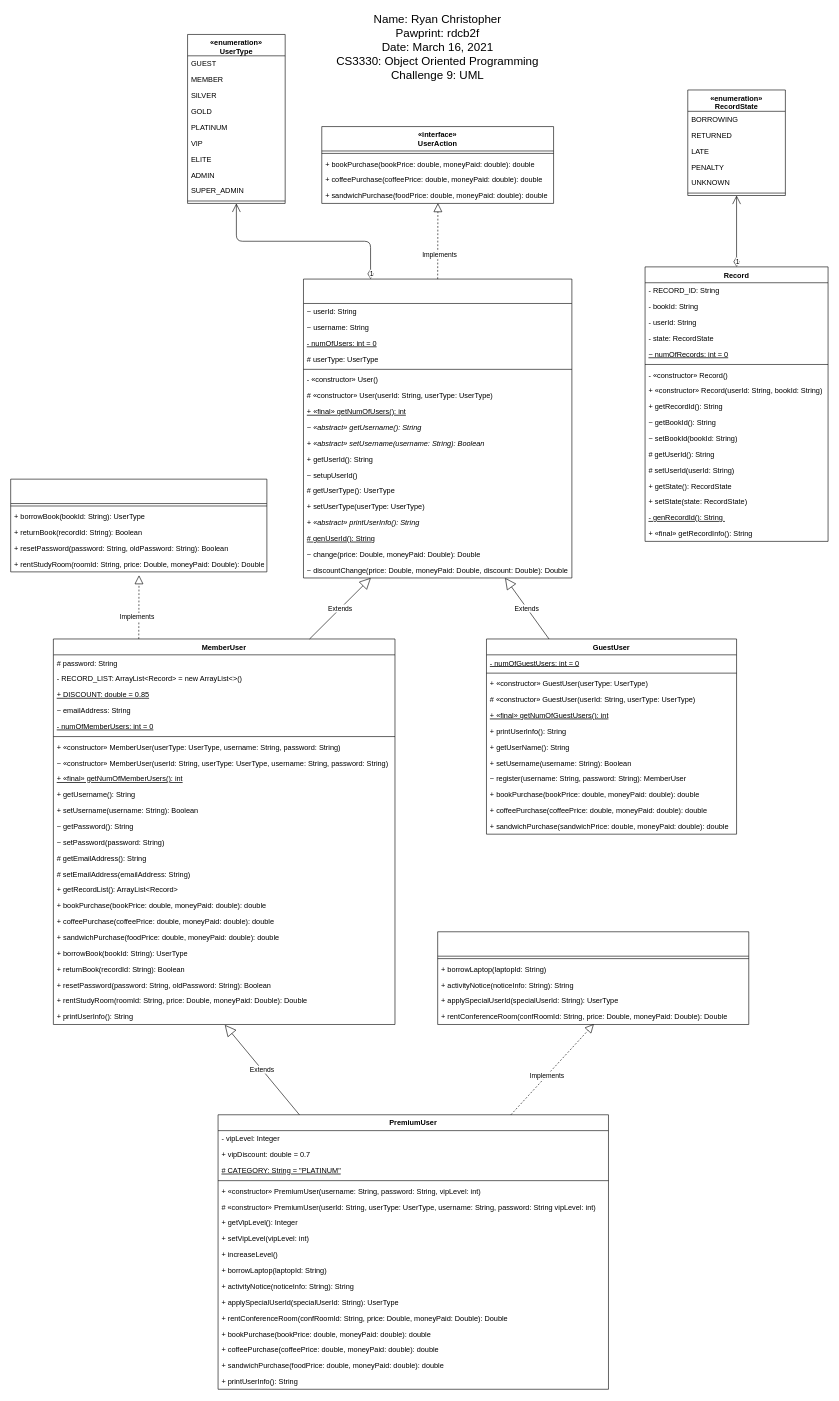
Some shapes in this 839 by 1401 pixel diagram are drawn without their labels. Here are the shapes that lost their labels. From the top down, the box of each, then its label:
(303, 278, 572, 578): «abstract» User
(10, 479, 267, 572): «interface» MemberUserAction
(437, 931, 749, 1024): «interface» PremiumUserAction
